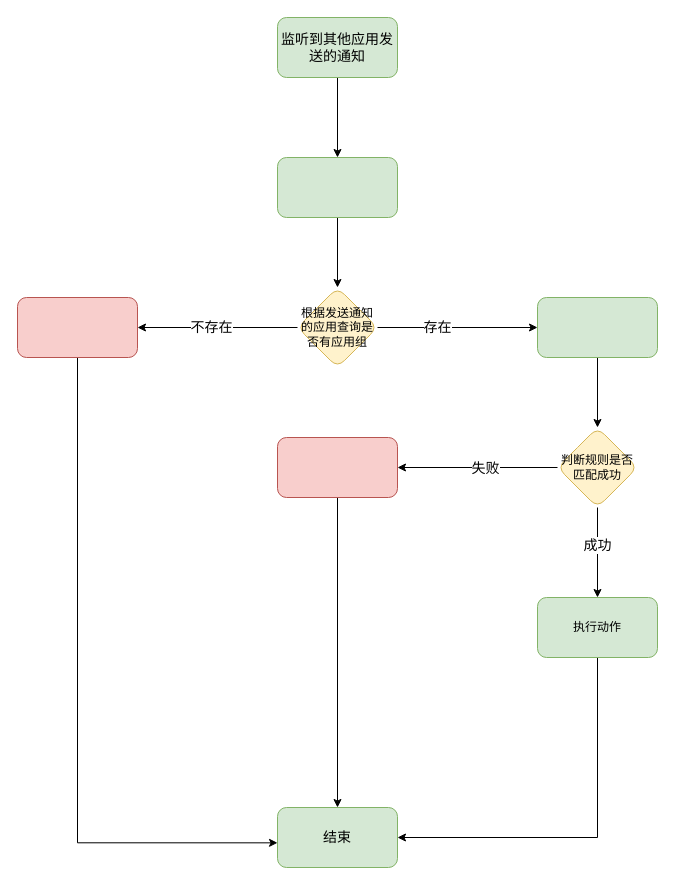
Image size: 675x885. Some labels were removed from this diagram. Each missing label, with the centre of its shape:
"保存通知" belongs at point (337, 187).
"查询应用组的规则" belongs at point (597, 327).
